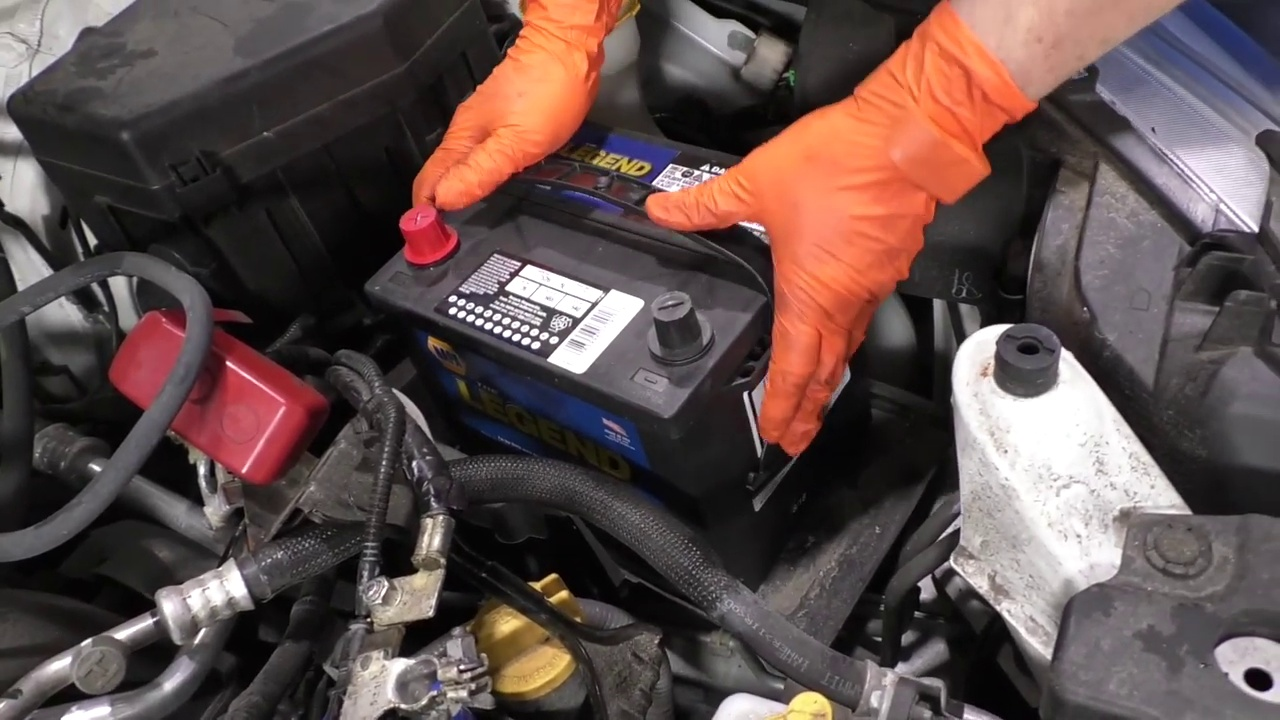battery: (376, 102, 822, 423)
pos_disconnected: (351, 176, 490, 279)
pos_touched: (311, 77, 557, 294)
